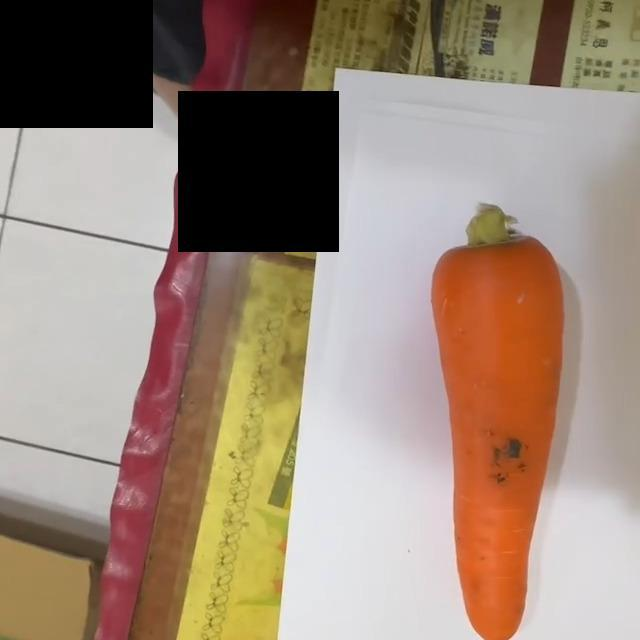carrot: (429, 201, 567, 640)
